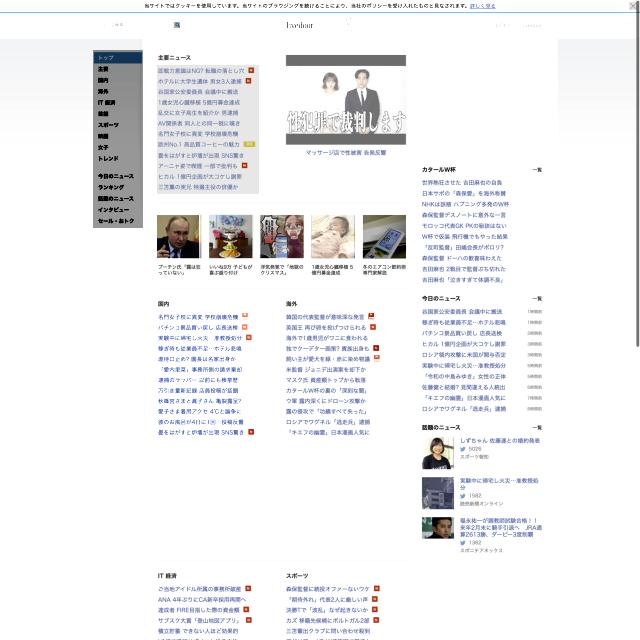CheckBox: (173, 19, 182, 30)
CheckedTextView: (94, 19, 183, 31)
QR code: (157, 65, 259, 194), (157, 313, 258, 438)
RadioButton: (241, 324, 248, 330), (246, 334, 252, 340), (242, 314, 248, 320), (370, 324, 376, 330), (373, 345, 379, 351), (374, 356, 380, 362), (369, 314, 374, 320)
bag: (0, 0, 636, 39)
carousel: (629, 2, 637, 10), (174, 22, 180, 28)
copy: (286, 54, 406, 146), (158, 214, 202, 259), (209, 214, 254, 258), (260, 215, 304, 258), (363, 215, 406, 259), (312, 214, 354, 258)
date picker: (284, 16, 358, 34)
decoration: (93, 50, 143, 228)
footer: (96, 21, 126, 29)
